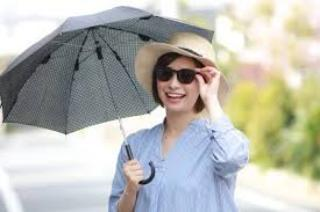person - v3 P: (107, 24, 247, 212)
